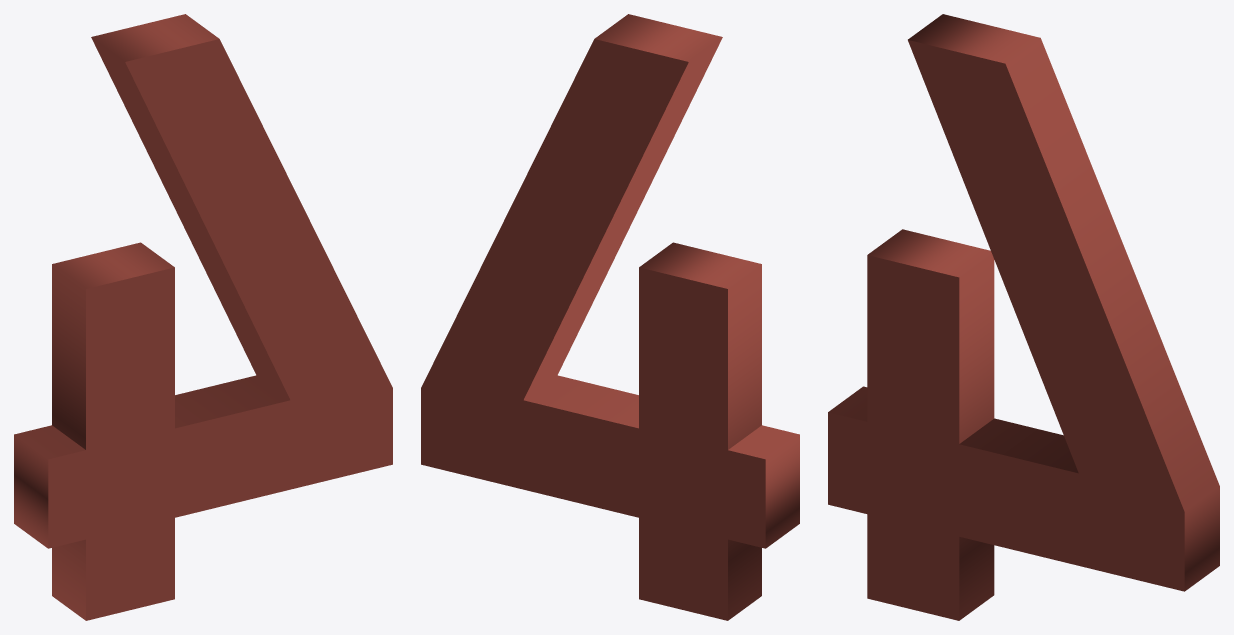
The model's file is Цифра_4.fbx.
3 renders of one model, left to right at view 1: azimuth 30°, elevation 25°; view 2: azimuth 150°, elevation 25°; view 3: azimuth 330°, elevation 25°, orthographic. The views are drawn at different scales.
Visible parts, largest first — view 1: 4; view 2: 4; view 3: 4.
Part boxes in pixels (x1=…): 4: x1=14, y1=14, x2=392, y2=620; 4: x1=421, y1=14, x2=799, y2=620; 4: x1=828, y1=14, x2=1219, y2=620.
Size of the model in its own units: 279 by 425 by 47.74.
